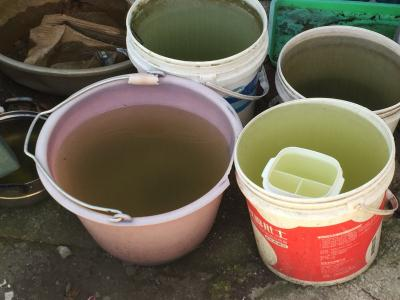bowl: (1, 1, 130, 96)
box: (268, 1, 400, 66)
bucket: (24, 69, 240, 272), (233, 98, 397, 286), (125, 1, 271, 126)
